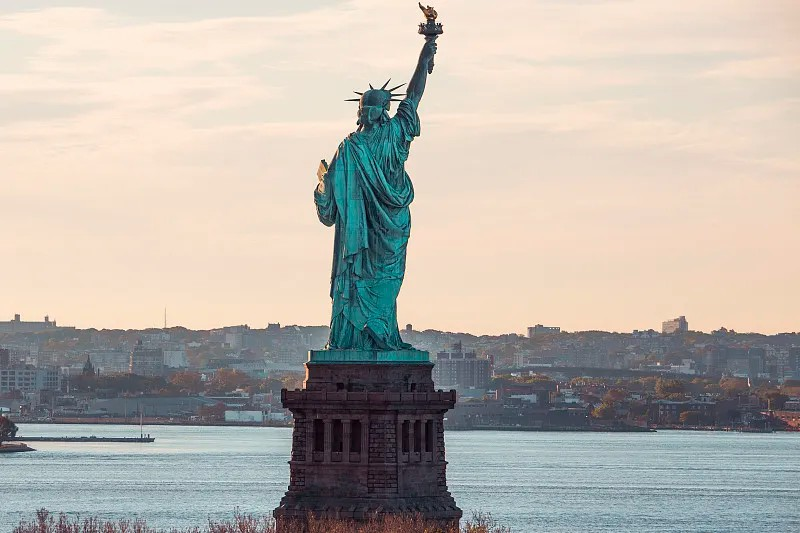SL: (273, 2, 462, 533)
